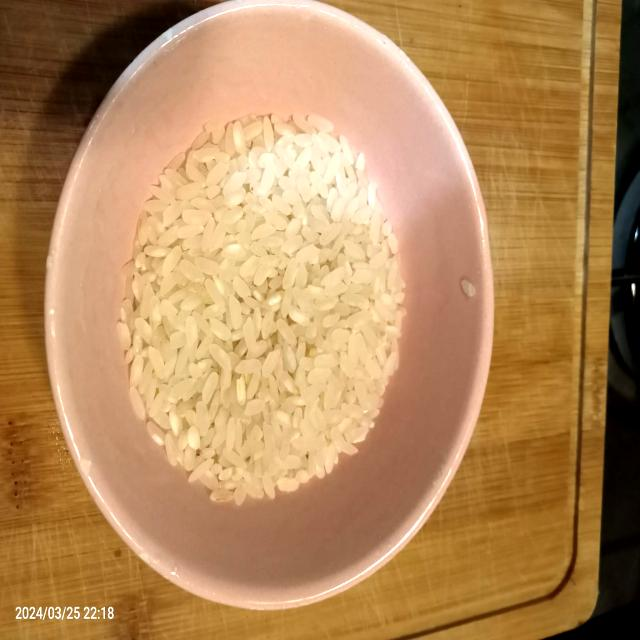rice: (112, 101, 420, 524)
